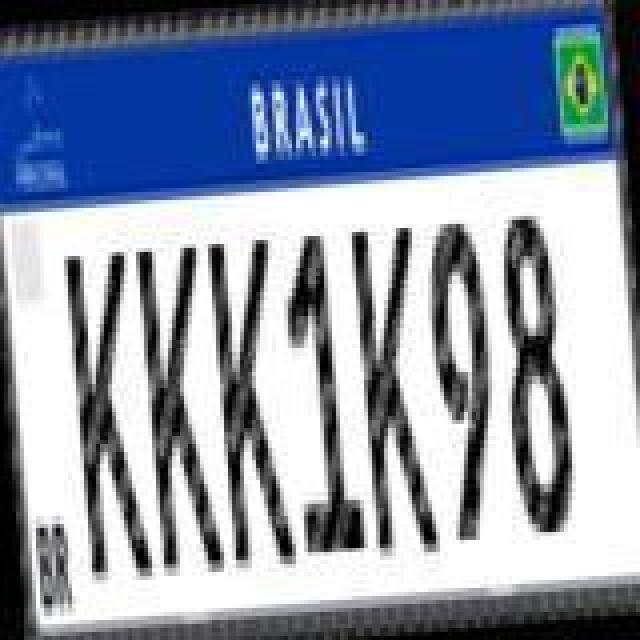1: (278, 224, 370, 560)
8: (490, 208, 582, 544)
9: (418, 218, 510, 550)
K: (66, 248, 158, 584), (138, 240, 230, 576), (206, 236, 298, 572), (350, 226, 442, 558)
